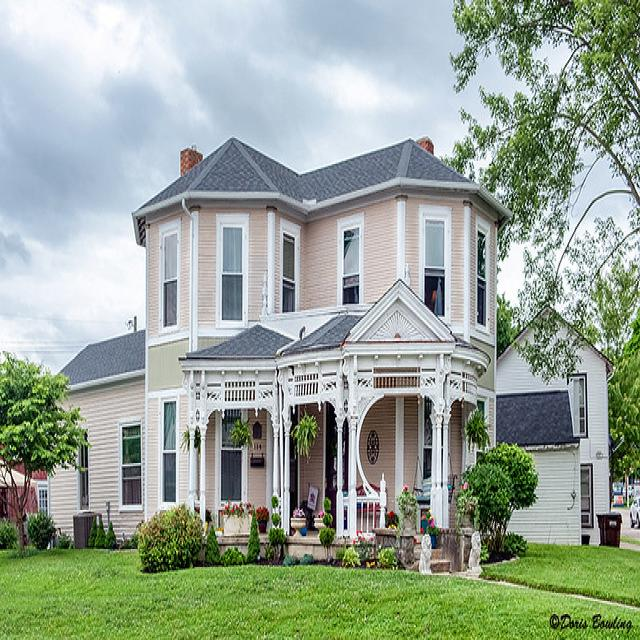building: (132, 129, 512, 576), (491, 299, 618, 560)
